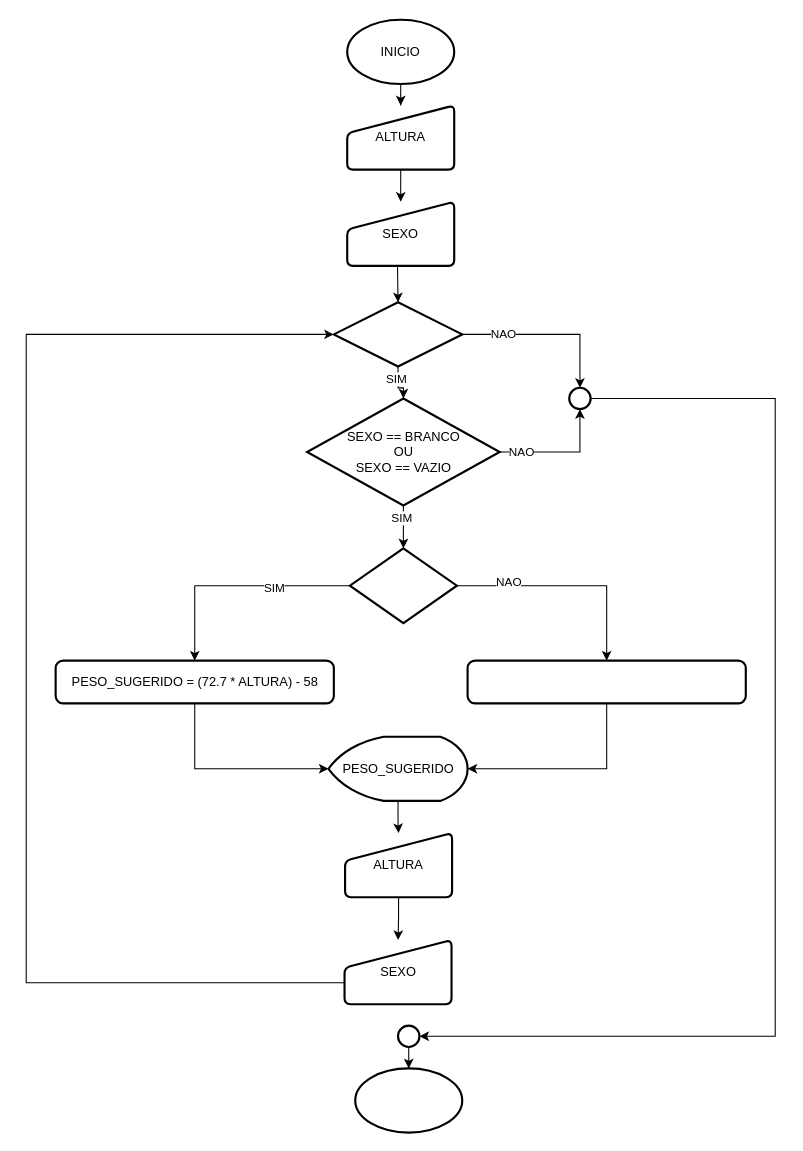
This 803x1151 diagram has some shape labels left out. Each missing label, with the box of its shape:
ALTURA != 0: (332, 301, 463, 367)
FIM: (354, 1067, 463, 1133)
PESO_SUGERIDO = (62.1 * ALTURA) - 44.7: (466, 659, 746, 704)
SEXO == M: (348, 547, 457, 624)
